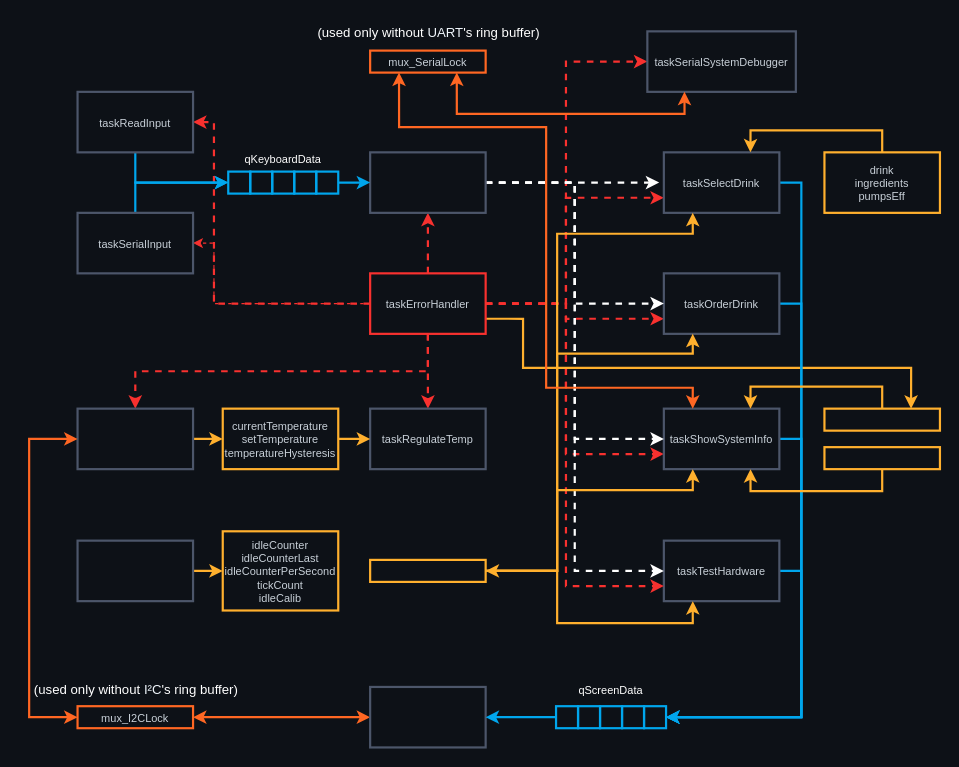
Image size: 959x767. Some labels were removed from this diagram. The shapes that lost their labels are listed below. From the top down, each one's centre as x and y in pixels, then its label:
At [427,182]: "taskMain".
At [135,438]: "taskReadTemp".
At [882,419]: "lastSystemError".
At [882,458]: "bootupsCount".
At [135,570]: "vAppplicationIdleHook".
At [427,570]: "UI_Context".
At [427,716]: "taskUpdateScreen".
